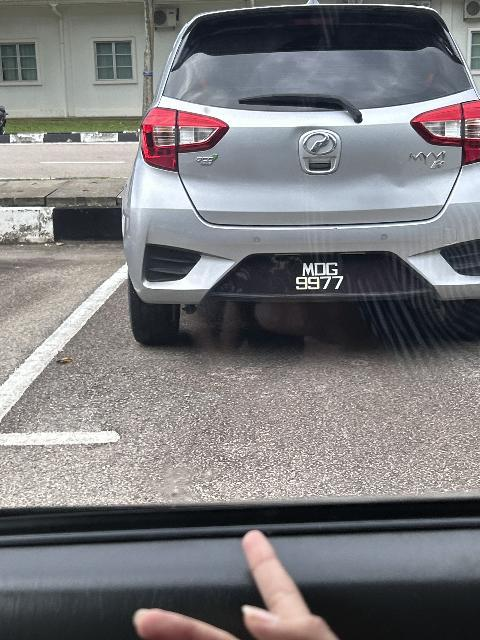License_Plate: (244, 254, 400, 300)
MDG9977: (244, 254, 400, 300)
car: (121, 1, 480, 329)
